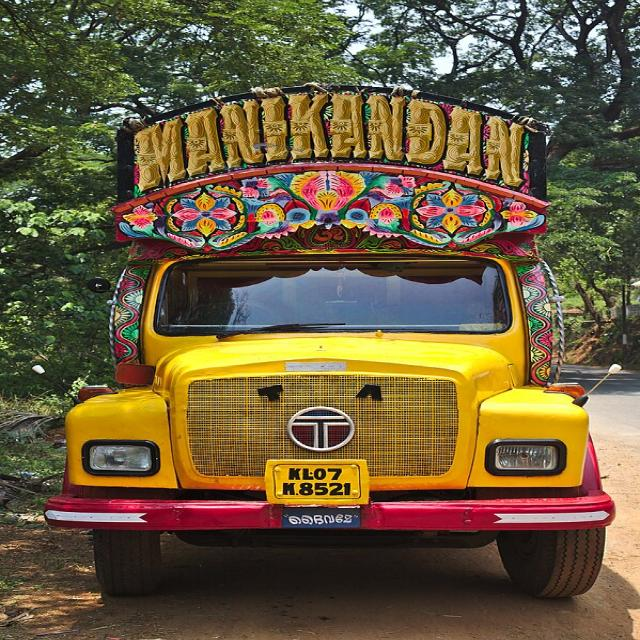Plate: (272, 458, 364, 507)
truck: (58, 84, 611, 598)
